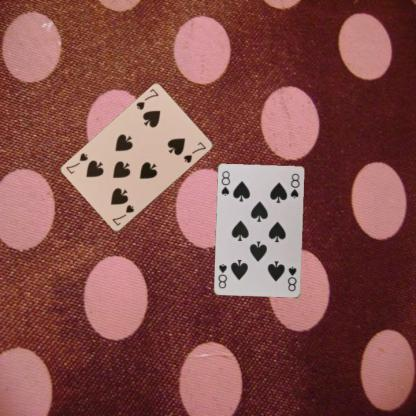7s: (134, 86, 160, 112), (109, 202, 135, 227)
8s: (219, 169, 232, 197), (286, 264, 298, 293)
